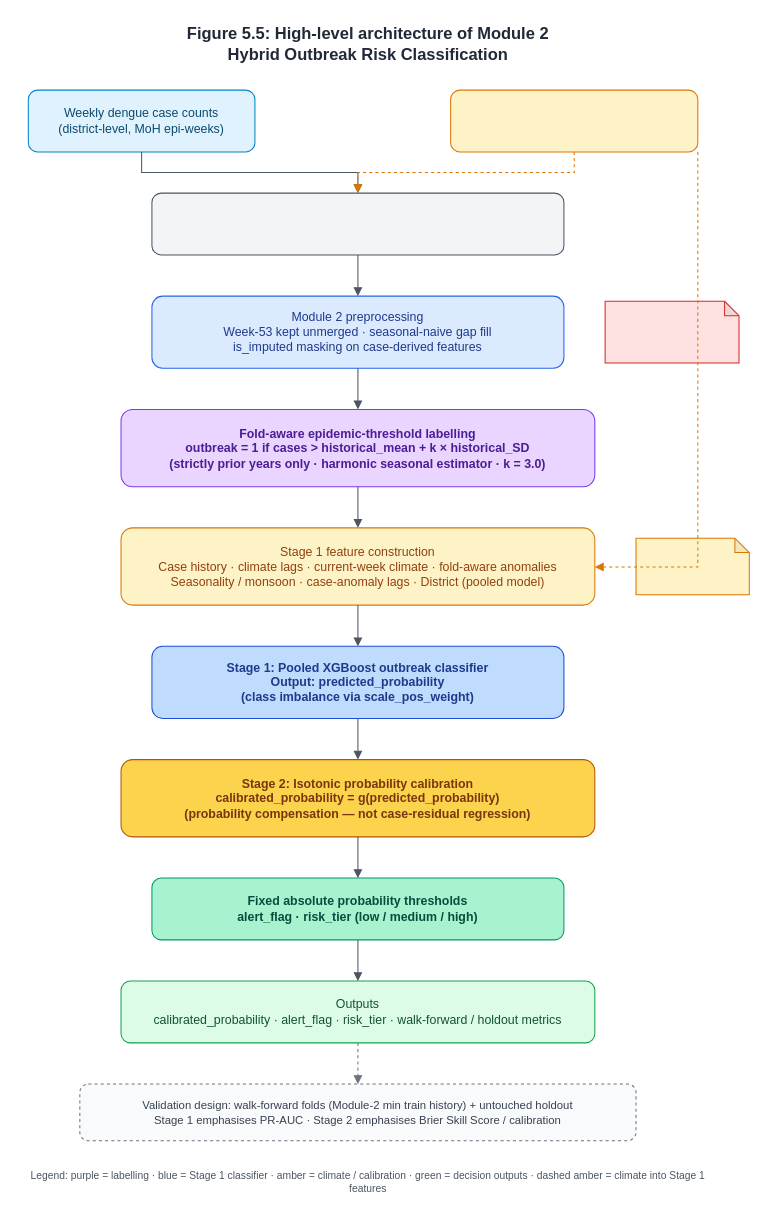
Some shapes in this 767 by 1214 pixel diagram are drawn without their labels. Here are the shapes that lost their labels. From the top down, the box of each, then its label:
(450, 89, 698, 152): Open-Meteo weekly climate (precipitation, temperature, humidity)
(151, 192, 564, 255): Shared cleaned tables Kalmunai→Ampara merge · epi-week calendar · climate weekly
(604, 300, 739, 363): Unlike Module 1: week 53 NOT merged
(635, 537, 749, 595): Climate included in Stage 1
